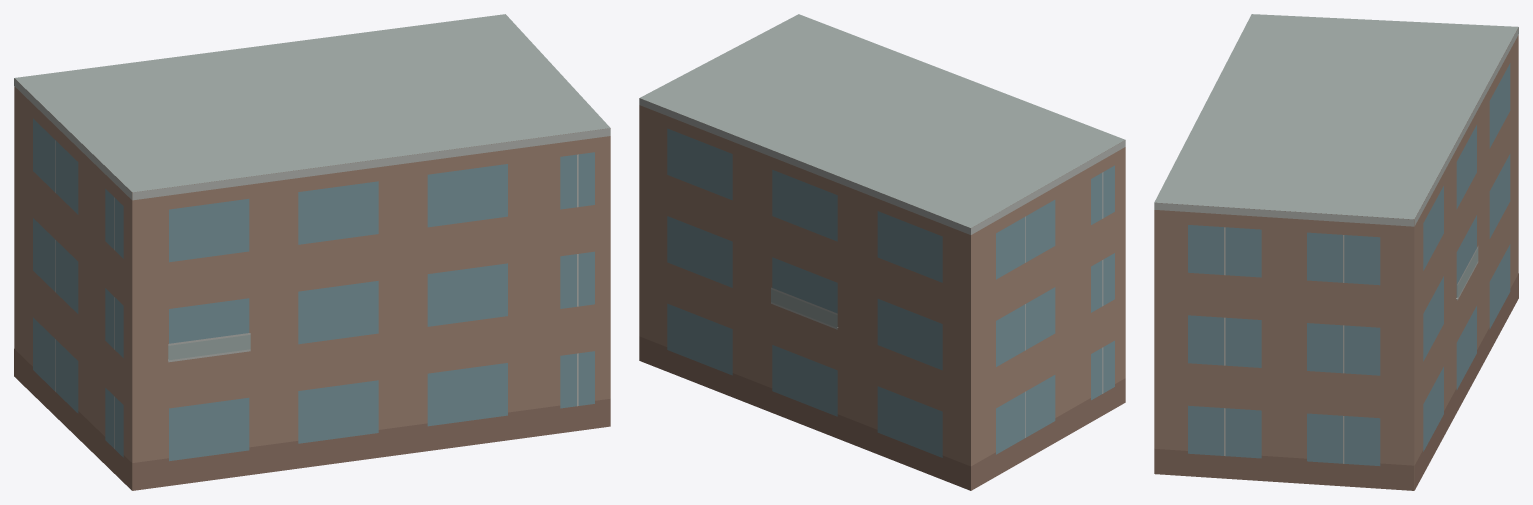
Rendered from survey-upis-32544059.glb.
The picture shows the model from 3 angles, left to right: view 1: azimuth 30°, elevation 25°; view 2: azimuth 150°, elevation 25°; view 3: azimuth 270°, elevation 25°; orthographic projection. The views are drawn at different scales.
Visible parts, largest first — view 1: survey-upis-32544059.tmp; view 2: survey-upis-32544059.tmp; view 3: survey-upis-32544059.tmp.
Boxes of the visible parts, <box> form: survey-upis-32544059.tmp: <box>14,14,610,490</box>; survey-upis-32544059.tmp: <box>639,14,1125,490</box>; survey-upis-32544059.tmp: <box>1154,14,1518,490</box>.
Size of the model in its own units: 14.86 by 9.15 by 11.15.
